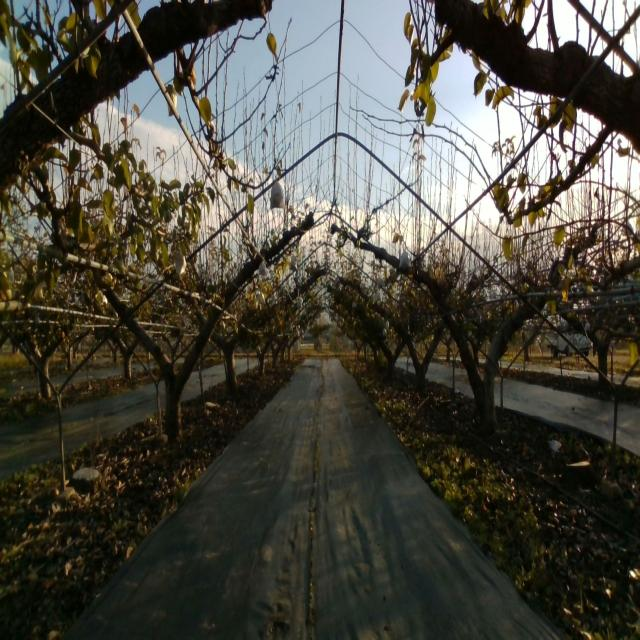pearbags: (270, 176, 286, 210), (173, 252, 187, 276), (398, 250, 412, 270)
